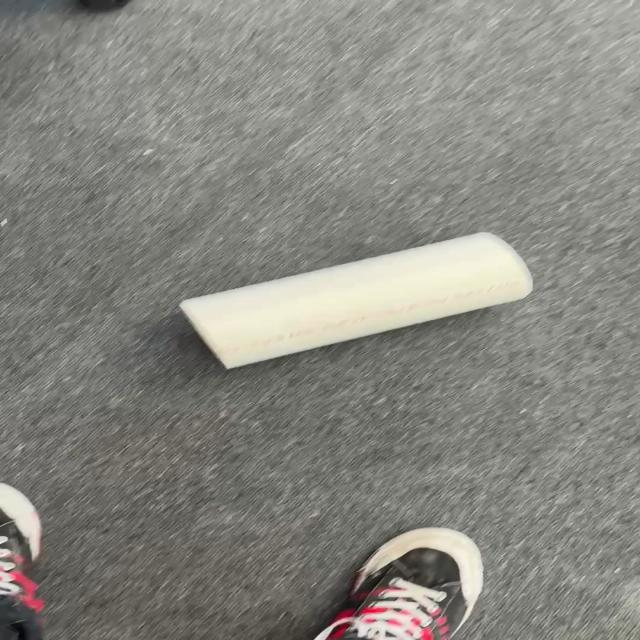Coral: (177, 230, 534, 370)
